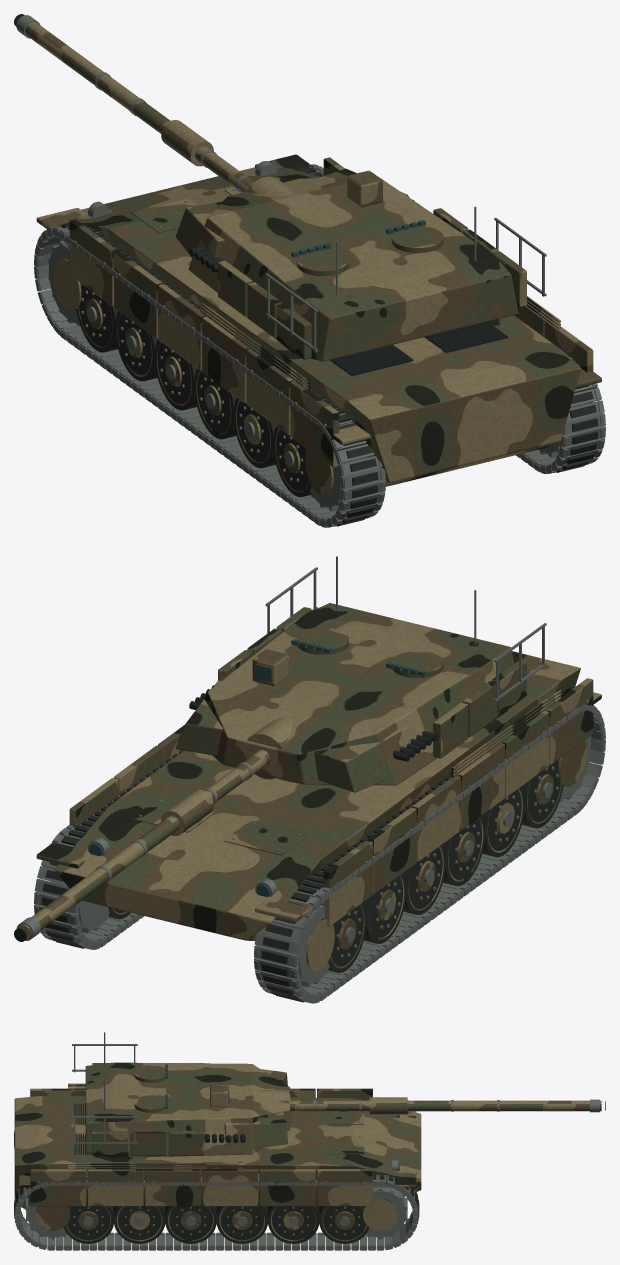
The model's file is k2-photo-pbr.glb.
3 views of the same model, one above another, from view 1: azimuth 30°, elevation 25°; view 2: azimuth 150°, elevation 25°; view 3: azimuth 270°, elevation 25° (orthographic). The views are drawn at different scales.
Visible parts, largest first — view 1: Other_Hull_Camouflage paint, Other_Turret_Camouflage paint, Other_Track_L_Track steel and fasteners, Other_Gun_Camouflage paint, Other_Track_R_Track steel and fasteners, Other_Hull_Grille and openings, Other_Track_L_Rubber tires and pads, Other_Track_L_Camouflage paint, Other_Track_R_Rubber tires and pads, Other_Turret_Track steel and fasteners, Other_RoadWheel_-1_4_Rubber tires and pads, Other_RoadWheel_-1_5_Rubber tires and pads (+6 smaller); view 2: Other_Hull_Camouflage paint, Other_Turret_Camouflage paint, Other_Track_L_Track steel and fasteners, Other_Gun_Camouflage paint, Other_Track_R_Track steel and fasteners, Other_Track_L_Rubber tires and pads, Other_Track_L_Camouflage paint, Other_Track_R_Rubber tires and pads, Front deck inspection plate, Other_Turret_Track steel and fasteners, Other_RoadWheel_-1_4_Rubber tires and pads, Other_RoadWheel_-1_2_Rubber tires and pads (+9 smaller); view 3: Other_Hull_Camouflage paint, Other_Turret_Camouflage paint, Other_Track_R_Track steel and fasteners, Other_Gun_Camouflage paint, Other_Track_R_Camouflage paint, Other_RoadWheel_1_3_Rubber tires and pads, Other_RoadWheel_1_2_Rubber tires and pads, Other_RoadWheel_1_4_Rubber tires and pads, Other_RoadWheel_1_5_Rubber tires and pads, Other_RoadWheel_1_1_Rubber tires and pads, Other_RoadWheel_1_6_Rubber tires and pads, Other_Turret_Track steel and fasteners (+11 smaller).
Boxes of the visible parts, left/top/right/bottom form: Other_Hull_Camouflage paint: left=36, top=154, right=601, bottom=486; Other_Turret_Camouflage paint: left=175, top=168, right=526, bottom=361; Other_Track_L_Track steel and fasteners: left=34, top=226, right=385, bottom=527; Other_Gun_Camouflage paint: left=16, top=16, right=292, bottom=195; Other_Track_R_Track steel and fasteners: left=307, top=164, right=605, bottom=474; Other_Hull_Grille and openings: left=330, top=321, right=507, bottom=376; Other_Track_L_Rubber tires and pads: left=58, top=222, right=378, bottom=526; Other_Track_L_Camouflage paint: left=52, top=258, right=333, bottom=495; Other_Track_R_Rubber tires and pads: left=291, top=165, right=598, bottom=472; Other_Turret_Track steel and fasteners: left=265, top=206, right=546, bottom=352; Other_RoadWheel_-1_4_Rubber tires and pads: left=154, top=340, right=197, bottom=410; Other_RoadWheel_-1_5_Rubber tires and pads: left=115, top=311, right=157, bottom=381; Other_Hull_Camouflage paint: left=36, top=651, right=601, bottom=940; Other_Turret_Camouflage paint: left=175, top=603, right=526, bottom=792; Other_Track_L_Track steel and fasteners: left=254, top=704, right=605, bottom=1003; Other_Gun_Camouflage paint: left=17, top=716, right=292, bottom=940; Other_Track_R_Track steel and fasteners: left=34, top=752, right=178, bottom=949; Other_Track_L_Rubber tires and pads: left=261, top=696, right=561, bottom=1002; Other_Track_L_Camouflage paint: left=306, top=740, right=586, bottom=971; Other_Track_R_Rubber tires and pads: left=41, top=750, right=183, bottom=948; Front deck inspection plate: left=224, top=821, right=308, bottom=855; Other_Turret_Track steel and fasteners: left=265, top=556, right=546, bottom=701; Other_RoadWheel_-1_4_Rubber tires and pads: left=403, top=844, right=445, bottom=914; Other_RoadWheel_-1_2_Rubber tires and pads: left=482, top=786, right=524, bottom=857; Other_Hull_Camouflage paint: left=14, top=1083, right=421, bottom=1209; Other_Turret_Camouflage paint: left=85, top=1062, right=290, bottom=1157; Other_Track_R_Track steel and fasteners: left=14, top=1174, right=418, bottom=1250; Other_Gun_Camouflage paint: left=257, top=1090, right=601, bottom=1114; Other_Track_R_Camouflage paint: left=35, top=1198, right=397, bottom=1230; Other_RoadWheel_1_3_Rubber tires and pads: left=165, top=1190, right=216, bottom=1243; Other_RoadWheel_1_2_Rubber tires and pads: left=114, top=1189, right=165, bottom=1243; Other_RoadWheel_1_4_Rubber tires and pads: left=216, top=1193, right=268, bottom=1243; Other_RoadWheel_1_5_Rubber tires and pads: left=268, top=1199, right=319, bottom=1243; Other_RoadWheel_1_1_Rubber tires and pads: left=63, top=1188, right=114, bottom=1243; Other_RoadWheel_1_6_Rubber tires and pads: left=319, top=1206, right=369, bottom=1243; Other_Turret_Track steel and fasteners: left=72, top=1032, right=137, bottom=1144.
Size of the model in its own units: 3.63 by 3.14 by 10.84.
5 materials, 1 textured.
